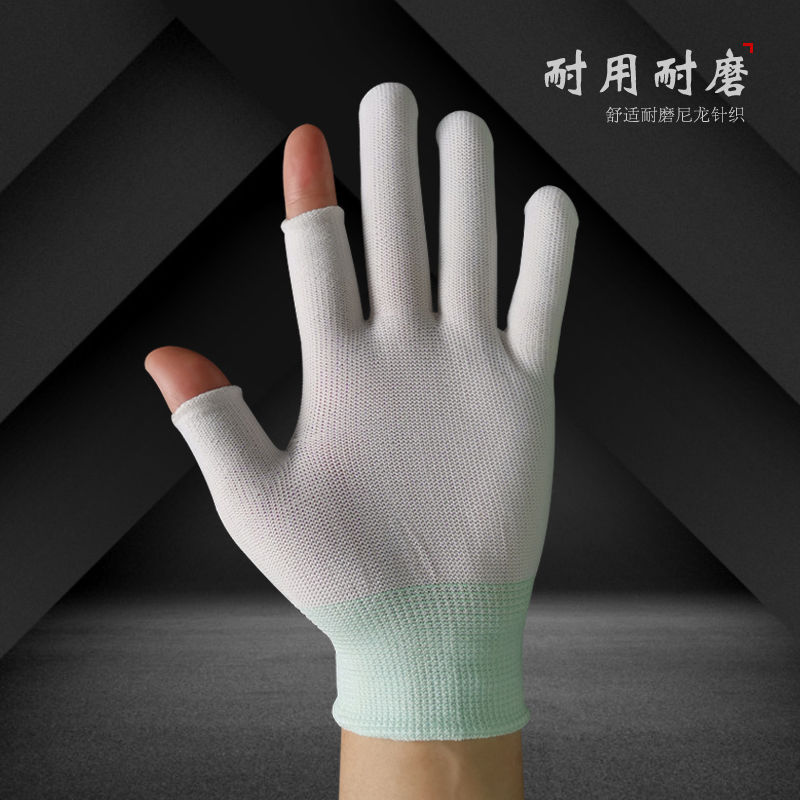defected: (119, 58, 631, 756)
